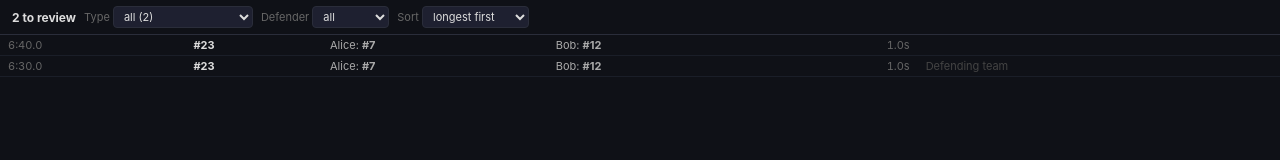
Test: DisagreementQueue › filters to one kind of disagreement
Expected: the number of rows is 2, x1=0 y1=35 x2=1279 y2=56; x1=0 y1=56 x2=1279 y2=76
Select "Defending team (1)" in the dropdown labelled "Type" at (183, 17), box x1=113 y1=6 x2=253 y2=28
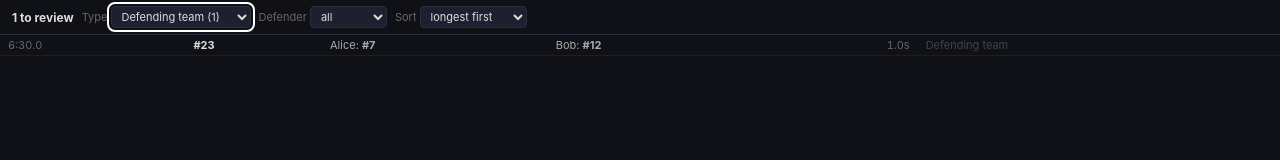
Expected: the number of rows is 1, x1=0 y1=35 x2=1279 y2=56
